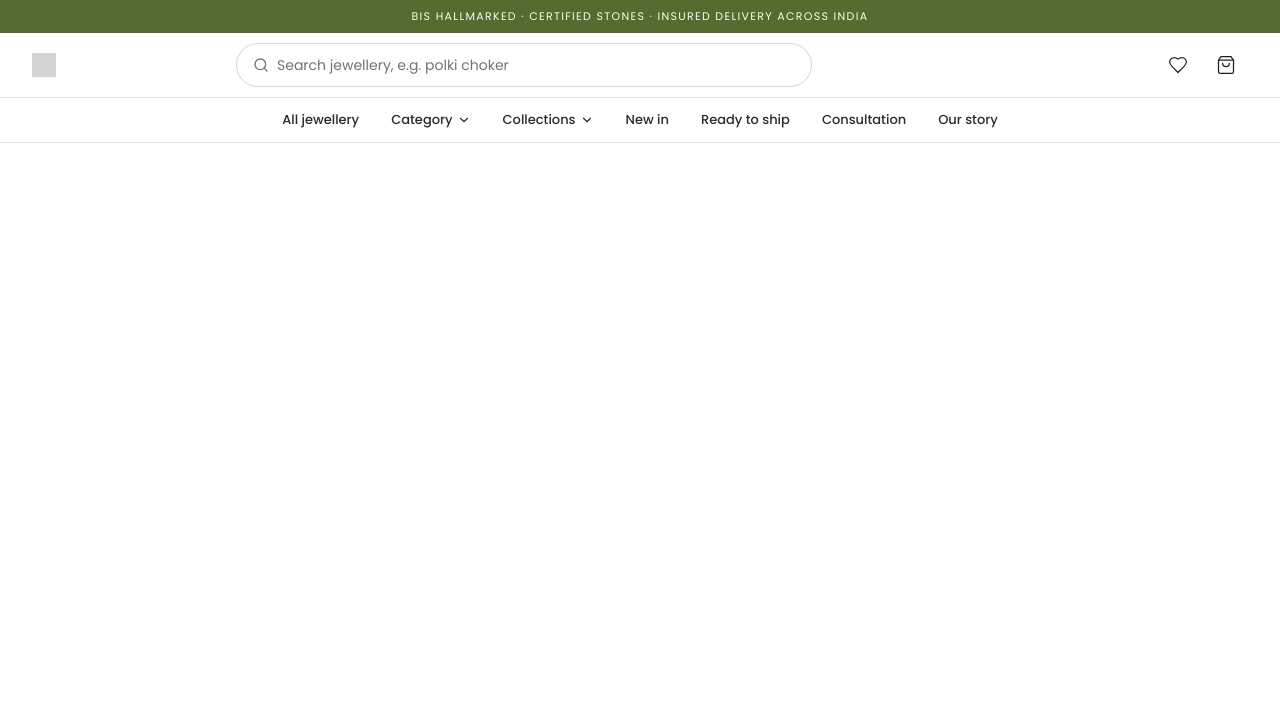
Test case: Header navigation menus (Category / Collections) › lists the admin's collections under the Collections menu
Click the button "Collections".
click(548, 120)  # box [503, 110, 594, 129]
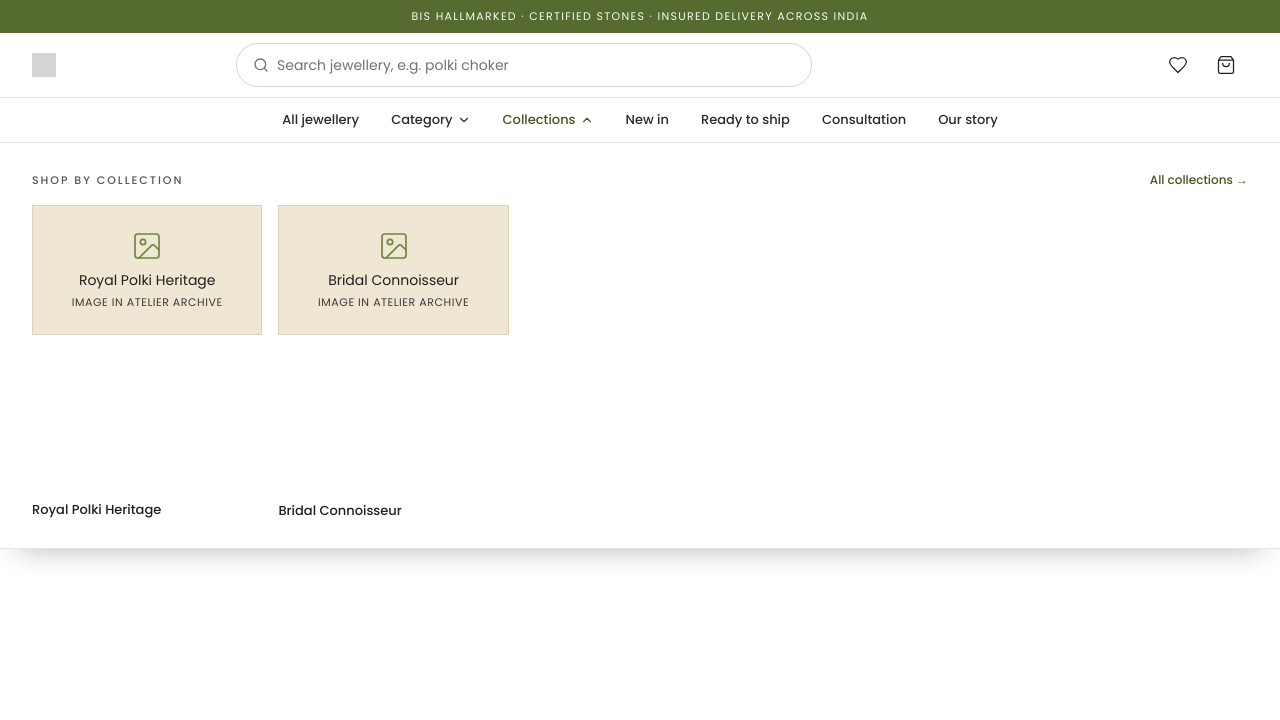
Expected: the text "Shop by collection" is shown, [32, 172, 183, 188]
